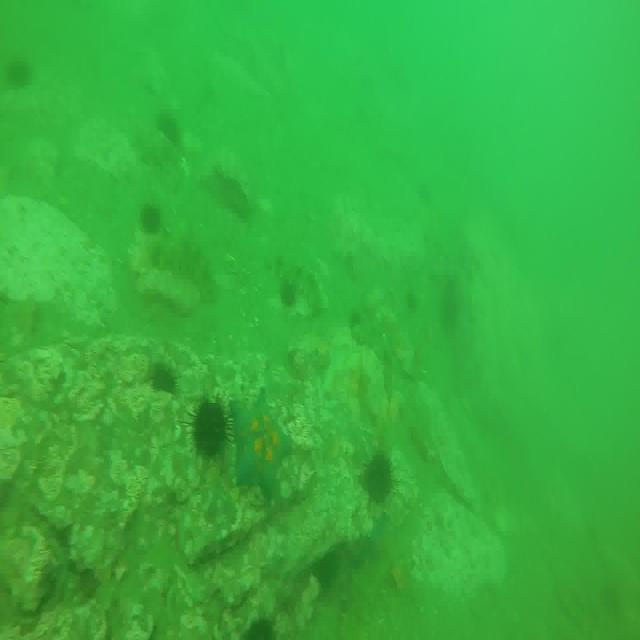echinus: (192, 397, 229, 456), (360, 451, 395, 501), (244, 613, 271, 640), (140, 201, 162, 230), (159, 112, 178, 140)
starfish: (230, 387, 289, 504)
